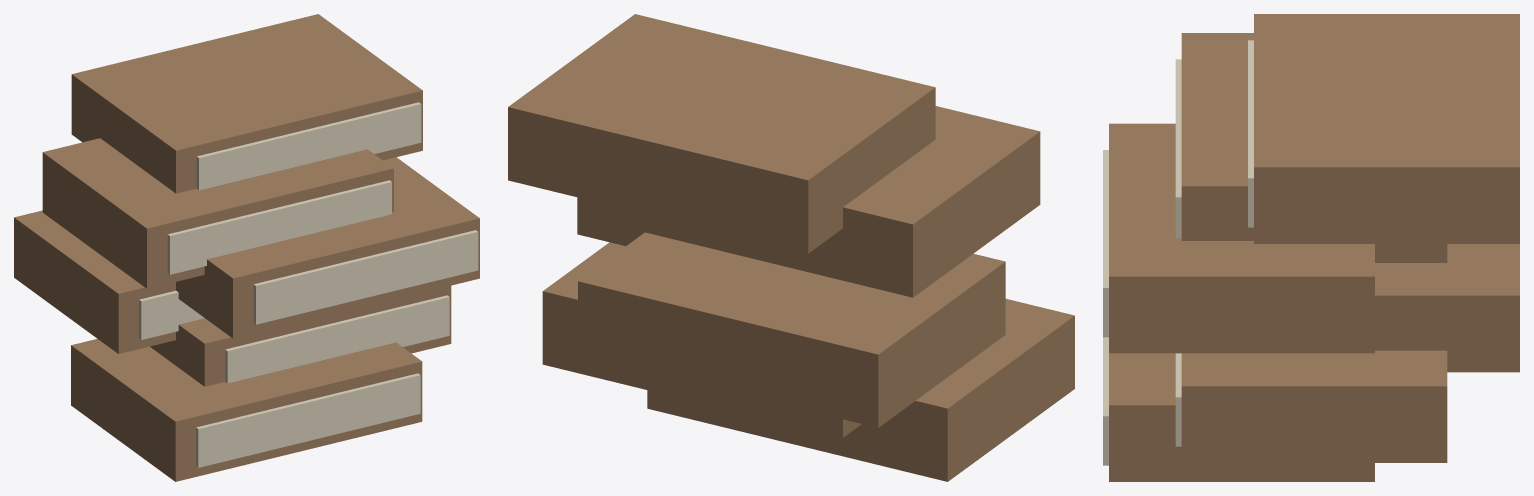
Rendered from item_117_book_l.glb.
3 views of the same model, side by side, from view 1: azimuth 30°, elevation 25°; view 2: azimuth 150°, elevation 25°; view 3: azimuth 270°, elevation 25° (orthographic). The views are drawn at different scales.
Parts seen in each view (by area): view 1: item_117_book_l; view 2: item_117_book_l; view 3: item_117_book_l.
Boxes of the visible parts, <box> form: item_117_book_l: <box>14,14,479,481</box>; item_117_book_l: <box>508,14,1074,481</box>; item_117_book_l: <box>1103,14,1519,481</box>.
Bounding box in the file's own units: 0.37 × 0.32 × 0.345.
